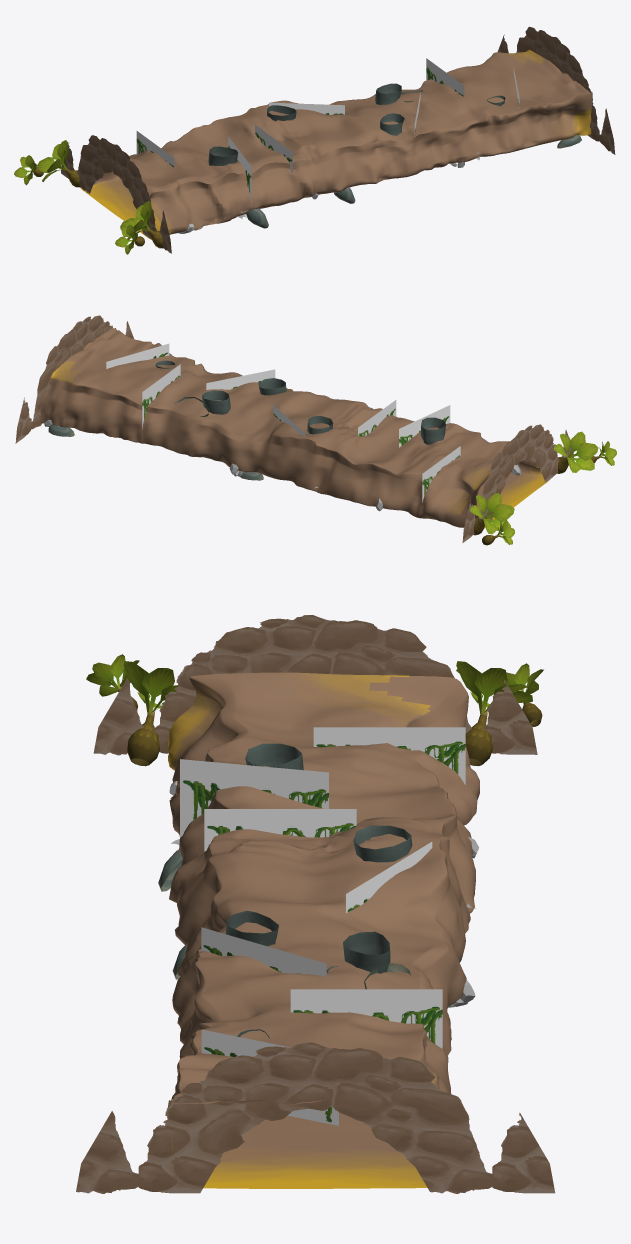
Rendered from Tunnel.fbx.
3 views of the same model, one above another, from view 1: azimuth 30°, elevation 25°; view 2: azimuth 150°, elevation 25°; view 3: azimuth 270°, elevation 25° (orthographic). The views are drawn at different scales.
Visible parts, largest first — view 1: pCube1, pPipe1, pPipe3, polySurface738, polySurface736, pPlane42, pPlane40, polySurface712, pPlane39, pPlane31, polySurface715, polySurface737 (+4 smaller); view 2: pCube1, pPipe1, pPipe3, polySurface736, polySurface738, pPlane41, pPlane42, pPlane38, pPlane43, polySurface715, polySurface712, pPlane31 (+3 smaller); view 3: pCube1, pPipe3, pPipe1, pPlane38, pPlane42, pPlane39, pPlane31, polySurface738, polySurface736, pPlane41, pPlane43, polySurface715 (+6 smaller).
Boxes of the visible parts, <box> form: pCube1: <box>80,49,592,239</box>; pPipe1: <box>61,135,171,253</box>; pPipe3: <box>497,26,615,154</box>; polySurface738: <box>37,140,80,187</box>; polySurface736: <box>120,201,163,248</box>; pPlane42: <box>426,58,464,96</box>; pPlane40: <box>269,102,344,114</box>; polySurface712: <box>208,146,238,165</box>; pPlane39: <box>255,125,292,172</box>; pPlane31: <box>136,131,174,167</box>; polySurface715: <box>375,83,401,104</box>; polySurface737: <box>115,224,144,254</box>; pCube1: <box>40,325,550,528</box>; pPipe1: <box>462,424,574,542</box>; pPipe3: <box>15,315,133,443</box>; polySurface736: <box>553,431,598,473</box>; polySurface738: <box>470,493,514,535</box>; pPlane41: <box>206,369,275,389</box>; pPlane42: <box>142,364,180,429</box>; pPlane38: <box>399,405,450,447</box>; pPlane43: <box>106,343,169,368</box>; polySurface715: <box>201,390,230,414</box>; polySurface712: <box>420,417,445,444</box>; pPlane31: <box>422,446,460,502</box>; pCube1: <box>167,672,479,1188</box>; pPipe3: <box>76,1042,555,1193</box>; pPipe1: <box>93,615,537,755</box>; pPlane38: <box>180,759,328,837</box>; pPlane42: <box>290,989,442,1048</box>; pPlane39: <box>204,809,356,851</box>; pPlane31: <box>313,727,465,784</box>; polySurface738: <box>456,661,532,766</box>; polySurface736: <box>123,661,178,766</box>; pPlane41: <box>201,927,326,976</box>; pPlane43: <box>201,1029,338,1125</box>; polySurface715: <box>343,931,390,973</box>.
Size of the model in its own units: 443 by 93.13 by 194.
